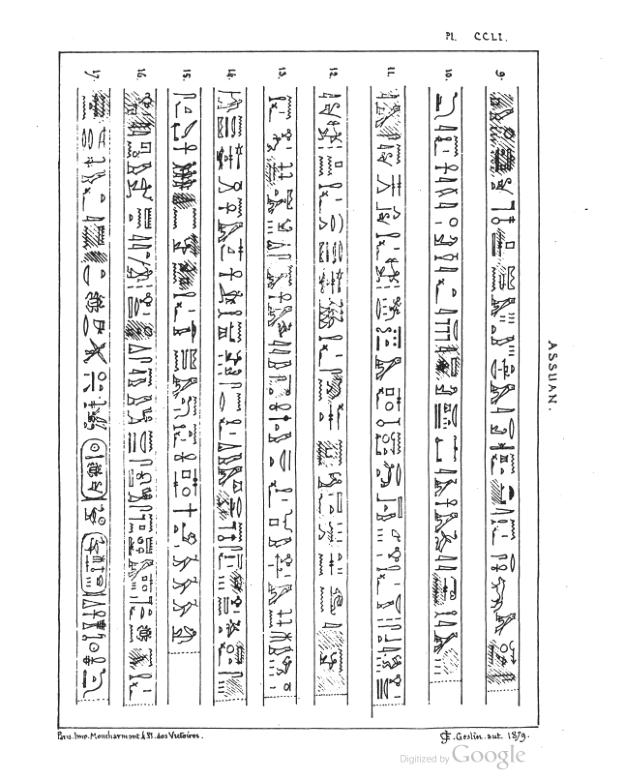circle: (78, 529, 109, 599), (80, 437, 109, 501)
